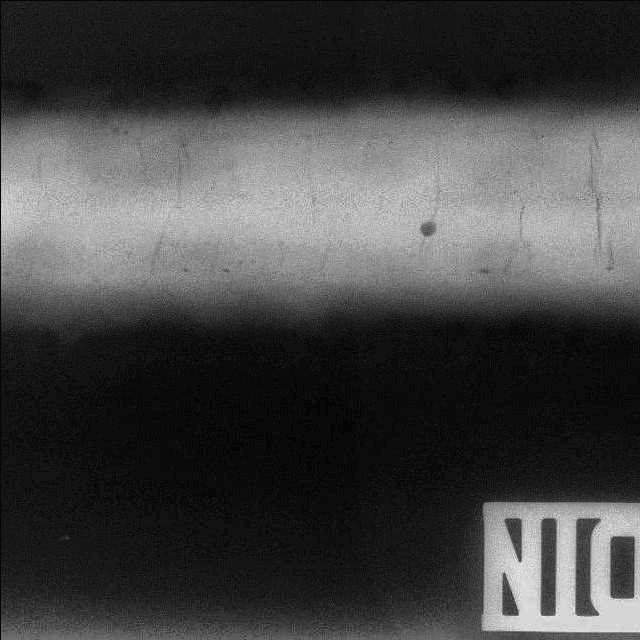Crack: (124, 119, 202, 291), (552, 120, 626, 266), (281, 120, 342, 281), (497, 156, 552, 272), (401, 120, 452, 219)
Pore: (414, 218, 442, 242)
